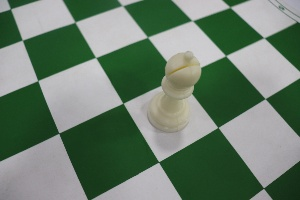white_bishop: (144, 31, 196, 139)
